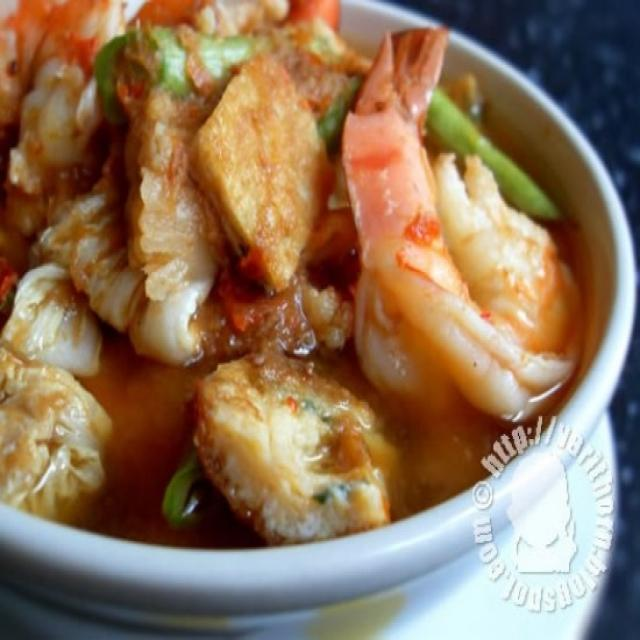汤锅炖物: (1, 2, 613, 604)
